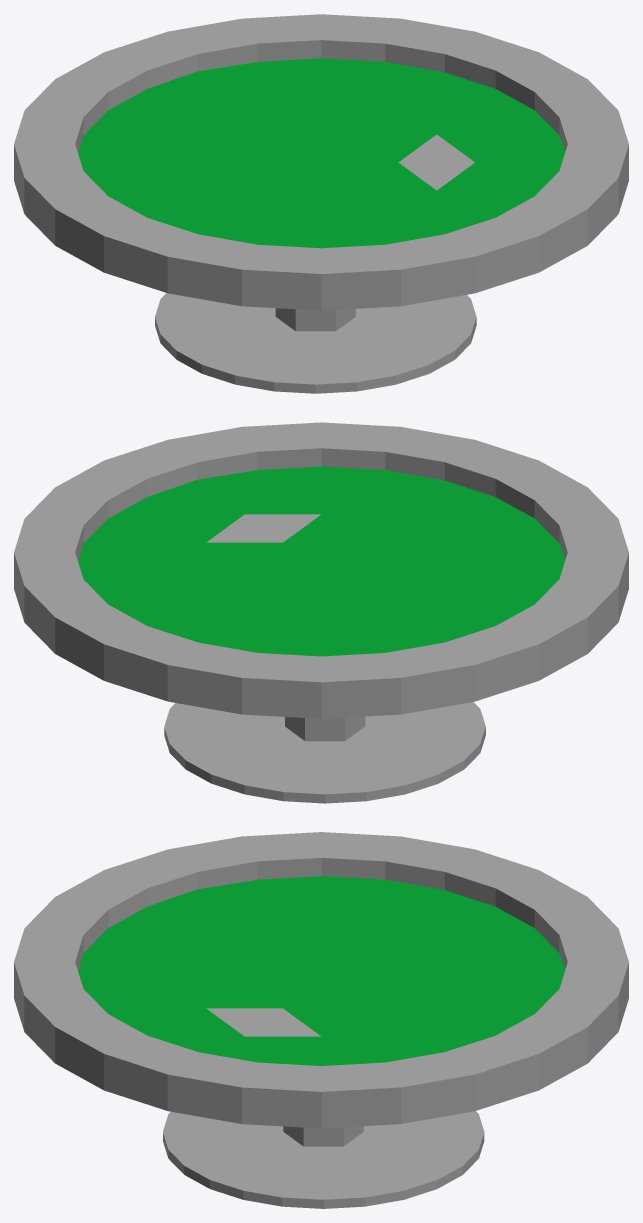
The model's file is Circular_Table.fbx.
The picture shows the model from 3 angles, top to bottom: view 1: azimuth 30°, elevation 25°; view 2: azimuth 150°, elevation 25°; view 3: azimuth 270°, elevation 25°; orthographic projection.
Parts seen in each view (by area): view 1: pDisc1, pDisc2; view 2: pDisc1, pDisc2; view 3: pDisc1, pDisc2.
Boxes of the visible parts, x1,y1,x2,y2 form: pDisc1: (14,14,628,310); pDisc2: (155,293,476,393); pDisc1: (14,422,628,718); pDisc2: (164,702,485,803); pDisc1: (14,832,628,1128); pDisc2: (163,1111,484,1208).
Size of the model in its own units: 3.04 by 0.9897 by 3.04.
